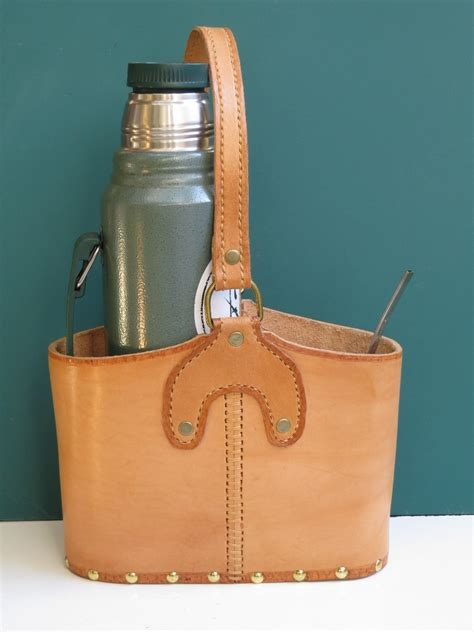cuero: (46, 25, 406, 590)
